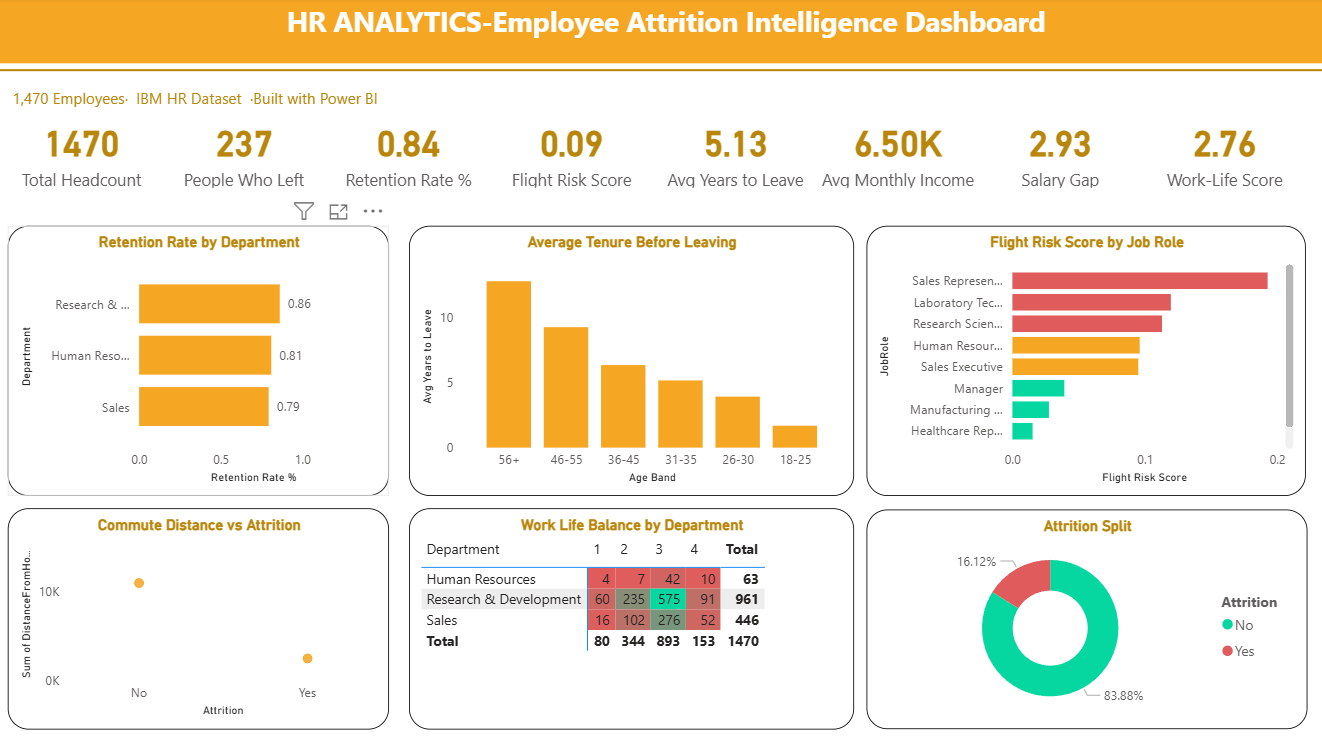

This screenshot's page, from the dashboard's own definition file:
{"tool":"powerbi","page":{"name":"Page 1","canvas":[1280,720],"ordinal":0},"visuals":[{"type":"textbox","box":[0,0,1280.5,63.6],"z":0},{"type":"textbox","box":[0,81.7,395.1,56.1],"z":1000},{"type":"shape","box":[0,11,1280.5,119.5],"z":2000},{"type":"card","fields":{"Values":["HR_Data.Total Headcount"]},"box":[0,109.8,159.8,79.3],"z":3000},{"type":"card","fields":{"Values":["HR_Data.Salary Gap"]},"box":[945.1,109.8,159.8,79.3],"z":4000},{"type":"card","fields":{"Values":["HR_Data.Work-Life Score"]},"box":[1102.4,109.8,161,79.3],"z":5000},{"type":"card","fields":{"Values":["HR_Data.Avg Monthly Income"]},"box":[787.8,109.8,159.8,79.3],"z":6000},{"type":"card","fields":{"Values":["HR_Data.Avg Years to Leave"]},"box":[630.5,109.8,159.8,79.3],"z":7000},{"type":"card","fields":{"Values":["HR_Data.Flight Risk Score"]},"box":[473.2,109.8,159.8,79.3],"z":8000},{"type":"card","fields":{"Values":["HR_Data.People Who Left"]},"box":[157.3,109.8,159.8,79.3],"z":9000},{"type":"card","fields":{"Values":["HR_Data.Retention Rate %"]},"box":[314.6,109.8,161,79.3],"z":10000},{"type":"clusteredBarChart","title":"Retention Rate by Department","fields":{"Category":["HR_Data.Department"],"Y":["HR_Data.Retention Rate %"]},"box":[8.5,220.7,368.3,261],"z":11000},{"type":"clusteredBarChart","title":"Flight Risk Score by Job Role","fields":{"Category":["HR_Data.JobRole"],"Y":["HR_Data.Flight Risk Score"]},"box":[837.8,220.7,424.4,261],"z":12000},{"type":"clusteredColumnChart","title":"Average Tenure Before Leaving","fields":{"Category":["HR_Data.Age Band"],"Y":["HR_Data.Avg Years to Leave"]},"box":[395.1,220.7,429.3,261],"z":13000},{"type":"scatterChart","title":"Commute Distance vs Attrition","fields":{"X":["HR_Data.Attrition"],"Y":["Sum(HR_Data.DistanceFromHome)"]},"box":[8.5,493.9,368.3,213.4],"z":14000},{"type":"pivotTable","title":"Work Life Balance by Department","fields":{"Rows":["HR_Data.Department"],"Columns":["HR_Data.WorkLifeBalance"],"Values":["HR_Data.Total Headcount"]},"box":[395.1,493.9,429.3,213.4],"z":15000},{"type":"donutChart","title":"Attrition Split","fields":{"Category":["HR_Data.Attrition"],"Y":["HR_Data.Total Headcount"]},"box":[837.8,495.1,425.6,212.2],"z":16000}]}

Visuals, with their boxes in screenshot pixels (x1, y1, x2, y2), scaled from the page's 1280x720 canvas onto the 1322x739 screenshot:
textbox: [0, 0, 1321, 65]
textbox: [0, 84, 408, 141]
shape: [0, 11, 1321, 134]
card - HR_Data.Total Headcount: [0, 113, 165, 194]
card - HR_Data.Salary Gap: [976, 113, 1141, 194]
card - HR_Data.Work-Life Score: [1139, 113, 1305, 194]
card - HR_Data.Avg Monthly Income: [814, 113, 979, 194]
card - HR_Data.Avg Years to Leave: [651, 113, 816, 194]
card - HR_Data.Flight Risk Score: [489, 113, 654, 194]
card - HR_Data.People Who Left: [162, 113, 328, 194]
card - HR_Data.Retention Rate %: [325, 113, 491, 194]
"Retention Rate by Department" clusteredBarChart: [9, 227, 389, 494]
"Flight Risk Score by Job Role" clusteredBarChart: [865, 227, 1304, 494]
"Average Tenure Before Leaving" clusteredColumnChart: [408, 227, 851, 494]
"Commute Distance vs Attrition" scatterChart: [9, 507, 389, 726]
"Work Life Balance by Department" pivotTable: [408, 507, 851, 726]
"Attrition Split" donutChart: [865, 508, 1305, 726]
